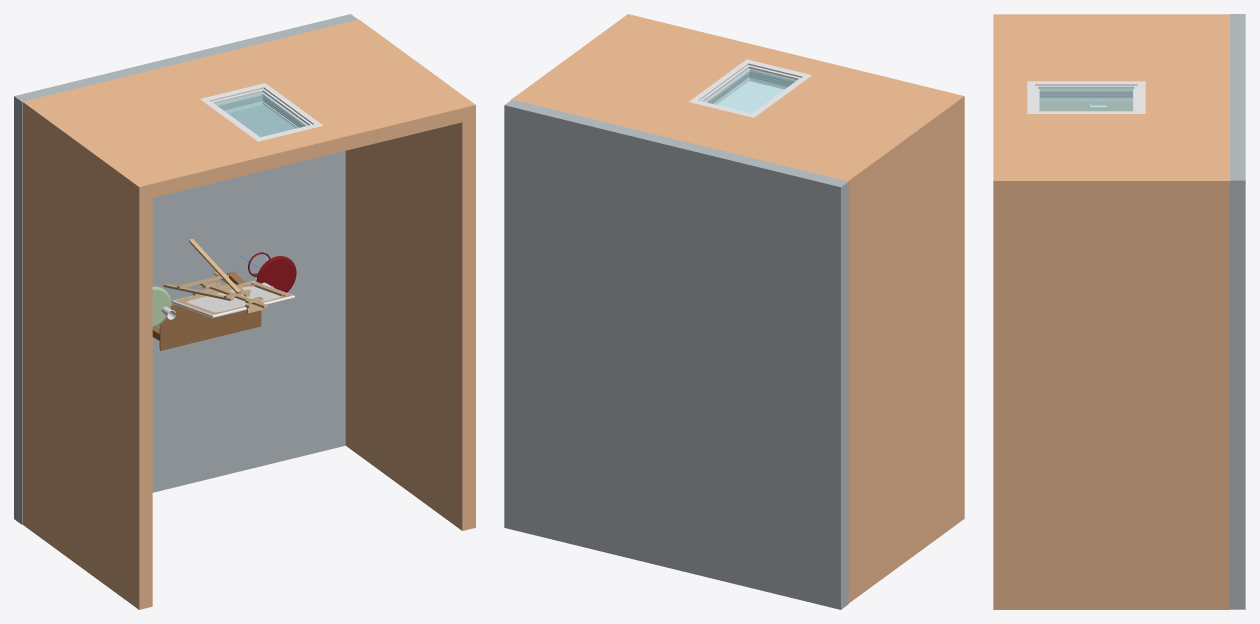
File: room_and_canvas.obj
The picture shows the model from 3 angles, left to right: view 1: azimuth 30°, elevation 25°; view 2: azimuth 150°, elevation 25°; view 3: azimuth 270°, elevation 25°; orthographic projection.
Visible parts, largest first — view 1: obj_7, obj_8, obj_12, obj_11, obj_4, obj_14, obj_13, obj_5, obj_6, obj_3; view 2: obj_7, obj_8, obj_11, obj_14, obj_13; view 3: obj_12, obj_11, obj_7, obj_14, obj_13, obj_8.
Boxes of the visible parts, x1=… form: obj_7: x1=14, y1=14, x2=357, y2=524; obj_8: x1=22, y1=116, x2=152, y2=609; obj_12: x1=345, y1=119, x2=475, y2=530; obj_11: x1=22, y1=19, x2=475, y2=200; obj_4: x1=152, y1=271, x2=261, y2=350; obj_14: x1=200, y1=83, x2=323, y2=141; obj_13: x1=215, y1=92, x2=308, y2=137; obj_5: x1=171, y1=281, x2=294, y2=318; obj_6: x1=163, y1=238, x2=267, y2=313; obj_3: x1=240, y1=249, x2=296, y2=292; obj_7: x1=504, y1=99, x2=848, y2=609; obj_8: x1=848, y1=110, x2=964, y2=603; obj_11: x1=511, y1=14, x2=964, y2=194; obj_14: x1=689, y1=59, x2=811, y2=117; obj_13: x1=703, y1=68, x2=796, y2=113; obj_12: x1=993, y1=195, x2=1229, y2=609; obj_11: x1=993, y1=14, x2=1229, y2=195; obj_7: x1=1230, y1=14, x2=1245, y2=609; obj_14: x1=1027, y1=81, x2=1145, y2=113; obj_13: x1=1039, y1=87, x2=1133, y2=111; obj_8: x1=1040, y1=101, x2=1132, y2=110.
Size of the model in its own units: 501 by 600 by 320.
